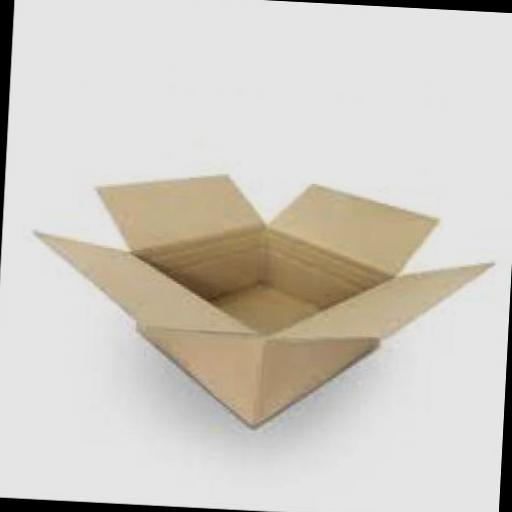cardboard: (22, 164, 498, 443)
